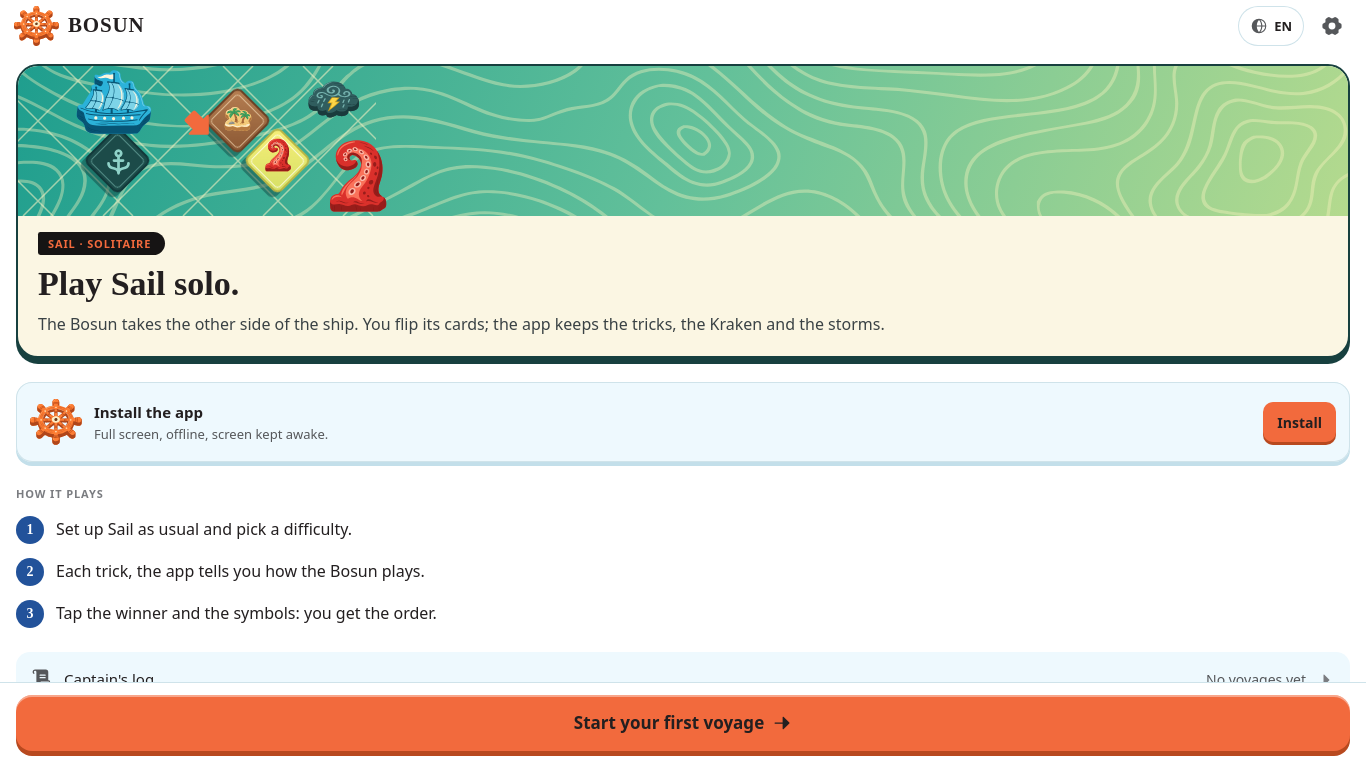
Test case: install (A2 install card, F1 once on iPhone) › offers Chrome's own prompt from the install card
Expected: the heading "BOSUN" is shown, [68, 13, 145, 39]
Click the button "Install".
click(1300, 422)  # box [1263, 402, 1336, 442]
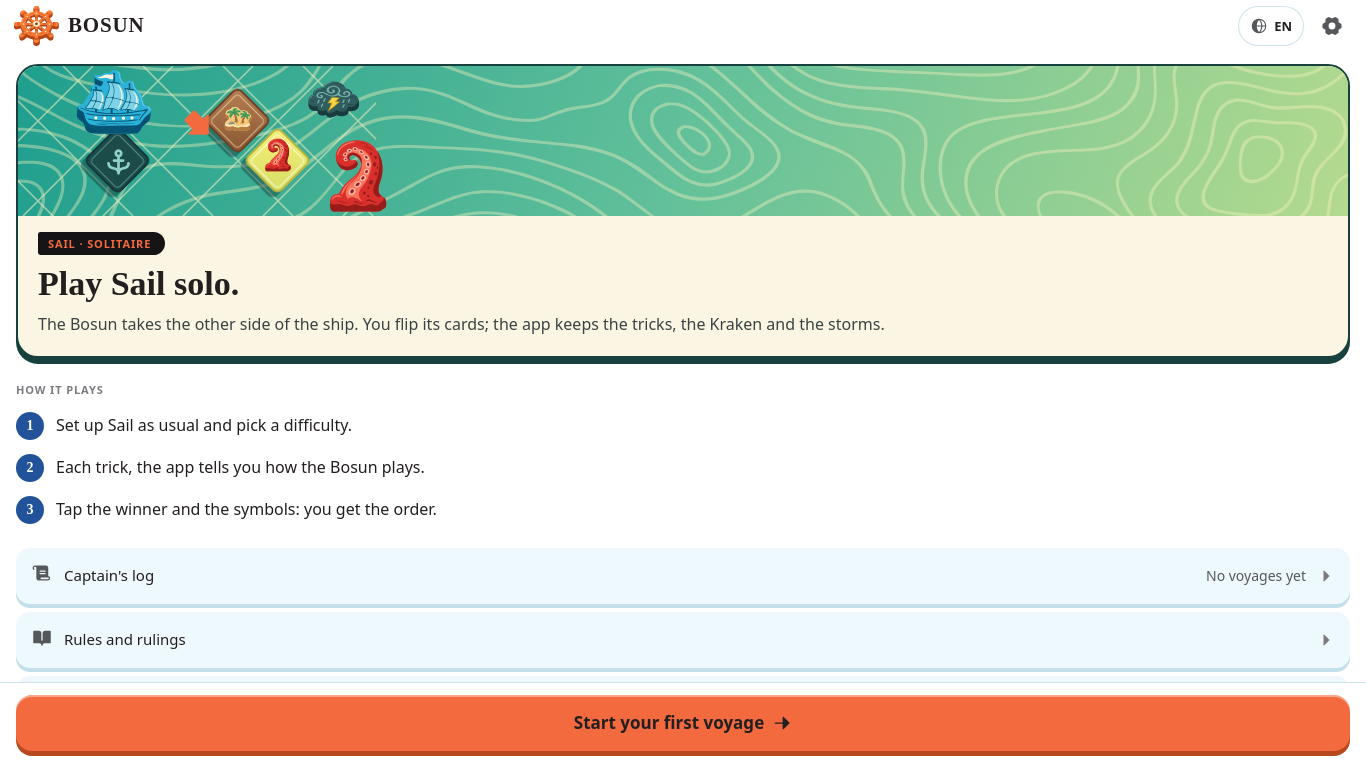
Result: the text "Install the app" is gone
